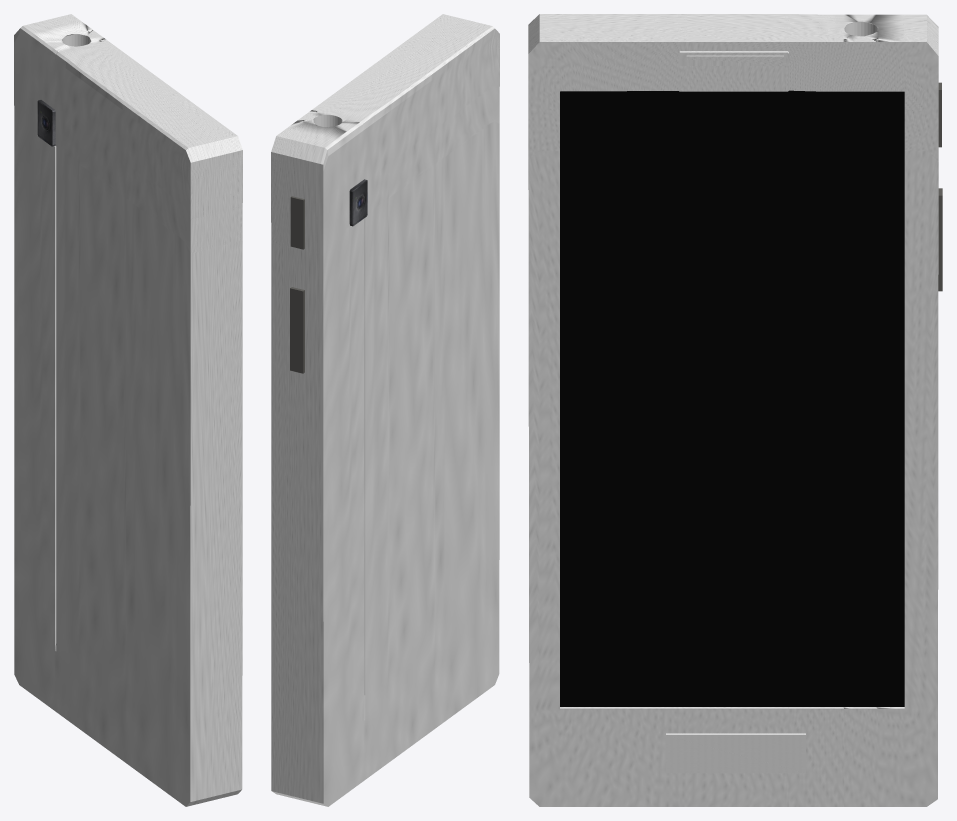
File: movil.fbx
3 views of the same model, side by side, from view 1: azimuth 30°, elevation 25°; view 2: azimuth 150°, elevation 25°; view 3: azimuth 270°, elevation 25° (orthographic). The views are drawn at different scales.
Visible parts, largest first — view 1: Mesh; view 2: Mesh; view 3: Mesh.
Boxes of the visible parts, box(x1,y1,x2,y2) form: Mesh: box(14, 14, 242, 806); Mesh: box(271, 14, 499, 806); Mesh: box(528, 14, 942, 806).
Bounding box in the file's own units: 0.00227 × 0.0241 × 0.0118.
Materials: 4 (4 with a texture image).
